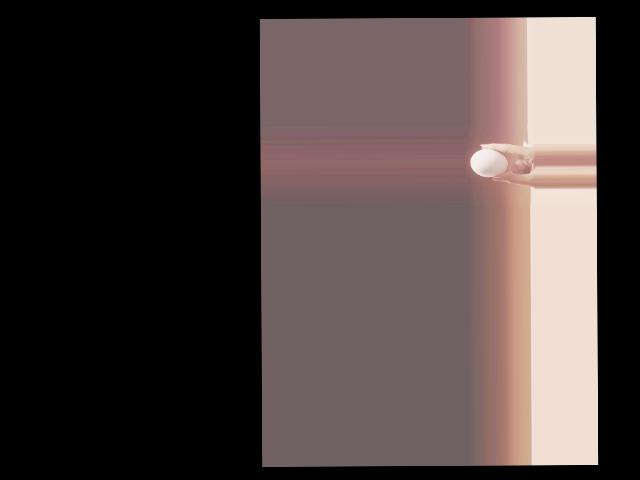egg: (470, 148, 508, 177)
